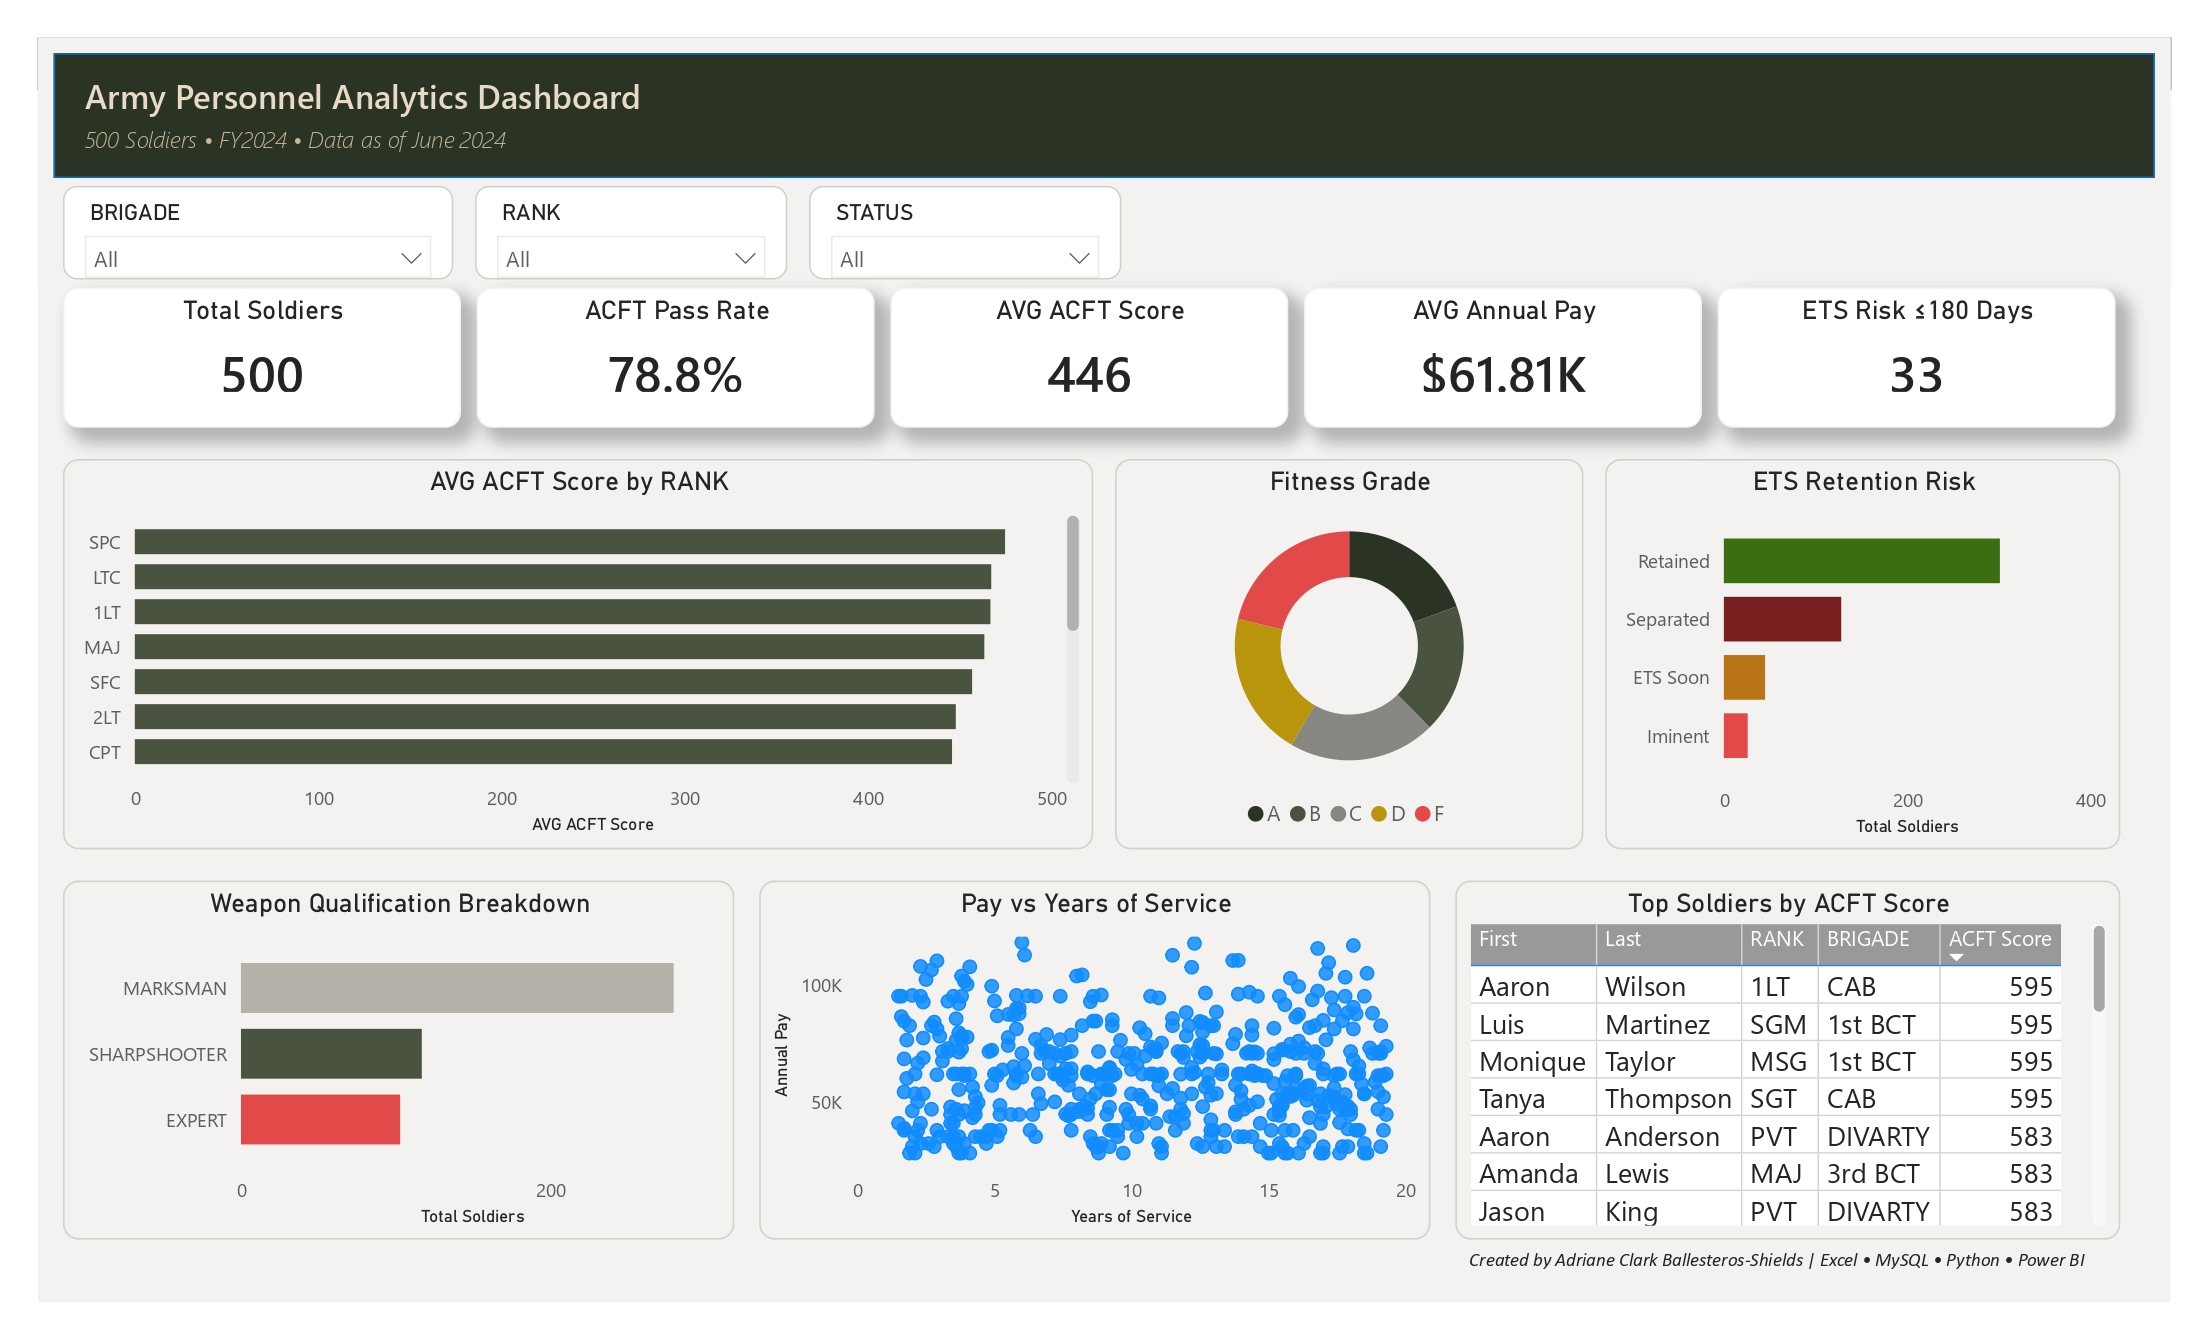

What the dashboard file says about the page in this screenshot:
{"tool":"powerbi","page":{"name":"Page 1","canvas":[1366,810],"ordinal":0},"visuals":[{"type":"shape","box":[10,10,1346,80],"z":0},{"type":"textbox","box":[25,18,700,40],"z":1},{"type":"slicer","title":"BRIGADE","fields":{"Values":["army_personnel_data.BRIGADE"]},"box":[16,95,250,60],"z":2},{"type":"slicer","fields":{"Values":["army_personnel_data.STATUS"]},"box":[494,95,200,60],"z":3},{"type":"slicer","fields":{"Values":["army_personnel_data.RANK"]},"box":[280,95,200,60],"z":4},{"type":"cardVisual","title":"Total Soldiers","fields":{"Data":["army_personnel_data.Total Soldiers"]},"box":[16,160,255,90],"z":5},{"type":"cardVisual","title":"ACFT Pass Rate","fields":{"Data":["army_personnel_data.ACFT Pass Rate"]},"box":[281,160,255,90],"z":6},{"type":"cardVisual","title":"AVG ACFT Score","fields":{"Data":["army_personnel_data.Avg ACFT Score"]},"box":[546,160,255,90],"z":7},{"type":"cardVisual","title":"AVG Annual Pay","fields":{"Data":["army_personnel_data.Avg Annual Pay"]},"box":[811,160,255,90],"z":8},{"type":"cardVisual","title":"ETS Risk ≤180 Days","fields":{"Data":["army_personnel_data.ETS Risk Count"]},"box":[1076,160,255,90],"z":9},{"type":"barChart","title":"AVG ACFT Score by RANK","fields":{"Category":["army_personnel_data.RANK"],"Y":["army_personnel_data.Avg ACFT Score"]},"box":[16,270,660,250],"z":10},{"type":"donutChart","title":"Fitness Grade","fields":{"Category":["army_personnel_data.Fitness Grade"],"Y":["CountNonNull(army_personnel_data.SOLDIER_ID)"]},"box":[690,270,300,250],"z":11},{"type":"barChart","title":"ETS Retention Risk","fields":{"Y":["army_personnel_data.Total Soldiers"],"Category":["army_personnel_data.ETS Status"]},"box":[1004,270,330,250],"z":12},{"type":"clusteredBarChart","title":"Weapon Qualification Breakdown","fields":{"Category":["army_personnel_data.WEAPON_QUALIFICATION"],"Y":["army_personnel_data.Total Soldiers"]},"box":[16,540,430,230],"z":13},{"type":"scatterChart","title":"Pay vs Years of Service","fields":{"X":["army_personnel_data.YEARS_OF_SERVICE"],"Y":["army_personnel_data.ANNUAL_PAY"]},"box":[462,540,430,230],"z":14},{"type":"tableEx","title":"Top  Soldiers by ACFT Score","fields":{"Values":["army_personnel_data.FIRST_NAME","army_personnel_data.LAST_NAME","army_personnel_data.RANK","army_personnel_data.BRIGADE","Sum(army_personnel_data.ACFT_TOTAL_SCORE)"]},"box":[908,540,426,230],"z":15},{"type":"textbox","box":[25,50,450,30],"z":16},{"type":"textbox","box":[912,768,416,32],"z":17}]}

Visuals, with their boxes on the page's 1366x810 design canvas (x1, y1, x2, y2). These are canvas units, not pixel positions in the 2209x1340 screenshot, which may show the page scaled, cropped or inside an application window:
shape: crop(10, 10, 1356, 90)
textbox: crop(25, 18, 725, 58)
"BRIGADE" slicer: crop(16, 95, 266, 155)
slicer - army_personnel_data.STATUS: crop(494, 95, 694, 155)
slicer - army_personnel_data.RANK: crop(280, 95, 480, 155)
"Total Soldiers" cardVisual: crop(16, 160, 271, 250)
"ACFT Pass Rate" cardVisual: crop(281, 160, 536, 250)
"AVG ACFT Score" cardVisual: crop(546, 160, 801, 250)
"AVG Annual Pay" cardVisual: crop(811, 160, 1066, 250)
"ETS Risk ≤180 Days" cardVisual: crop(1076, 160, 1331, 250)
"AVG ACFT Score by RANK" barChart: crop(16, 270, 676, 520)
"Fitness Grade" donutChart: crop(690, 270, 990, 520)
"ETS Retention Risk" barChart: crop(1004, 270, 1334, 520)
"Weapon Qualification Breakdown" clusteredBarChart: crop(16, 540, 446, 770)
"Pay vs Years of Service" scatterChart: crop(462, 540, 892, 770)
"Top  Soldiers by ACFT Score" tableEx: crop(908, 540, 1334, 770)
textbox: crop(25, 50, 475, 80)
textbox: crop(912, 768, 1328, 800)
